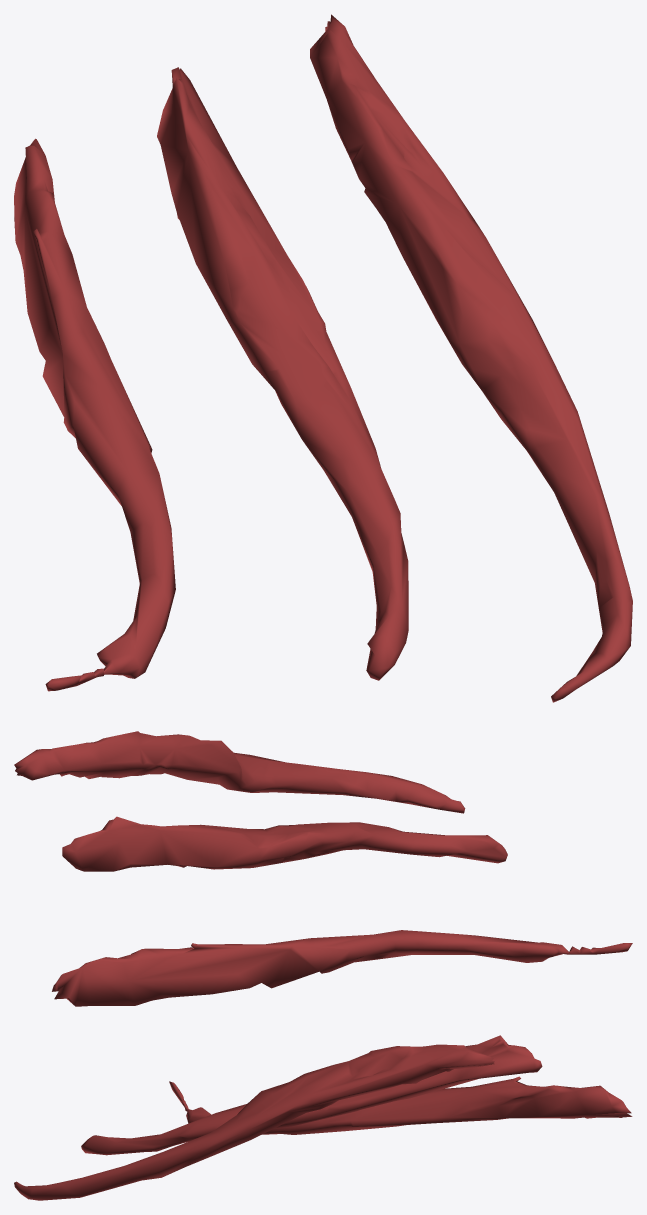
Rendered from plantar-interossei-muscles-r.glb.
3 views of the same model, one above another, from view 1: azimuth 30°, elevation 25°; view 2: azimuth 150°, elevation 25°; view 3: azimuth 270°, elevation 25° (orthographic). The views are drawn at different scales.
Parts seen in each view (by area): view 1: Plantar interossei muscles.r; view 2: Plantar interossei muscles.r; view 3: Plantar interossei muscles.r.
Part boxes in pixels (x1,y1,x2,y2): Plantar interossei muscles.r: (14,14,632,702); Plantar interossei muscles.r: (14,731,632,1006); Plantar interossei muscles.r: (14,1035,632,1200).
Size of the model in its own units: 0.043 by 0.0263 by 0.0718.
